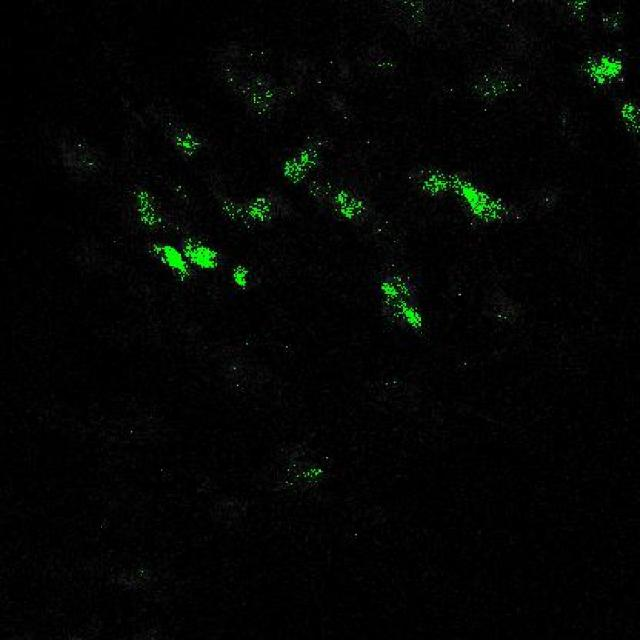Cell: (590, 56, 622, 82), (162, 246, 184, 278), (190, 245, 218, 270)
